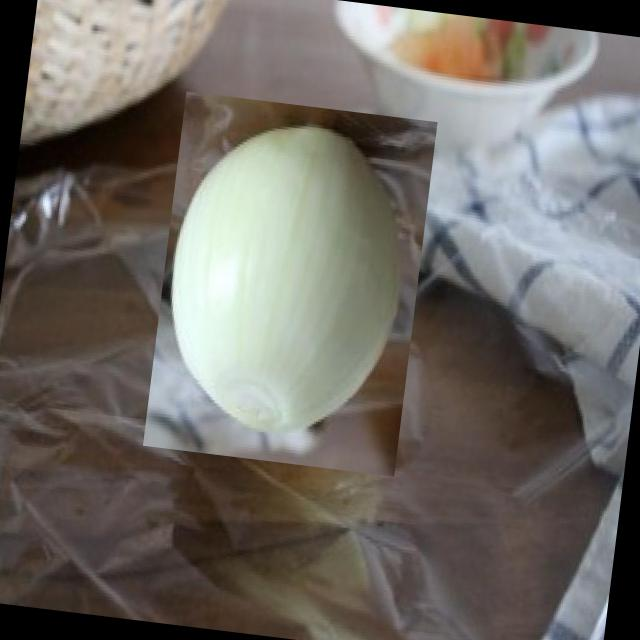Onion: (142, 90, 436, 477)
